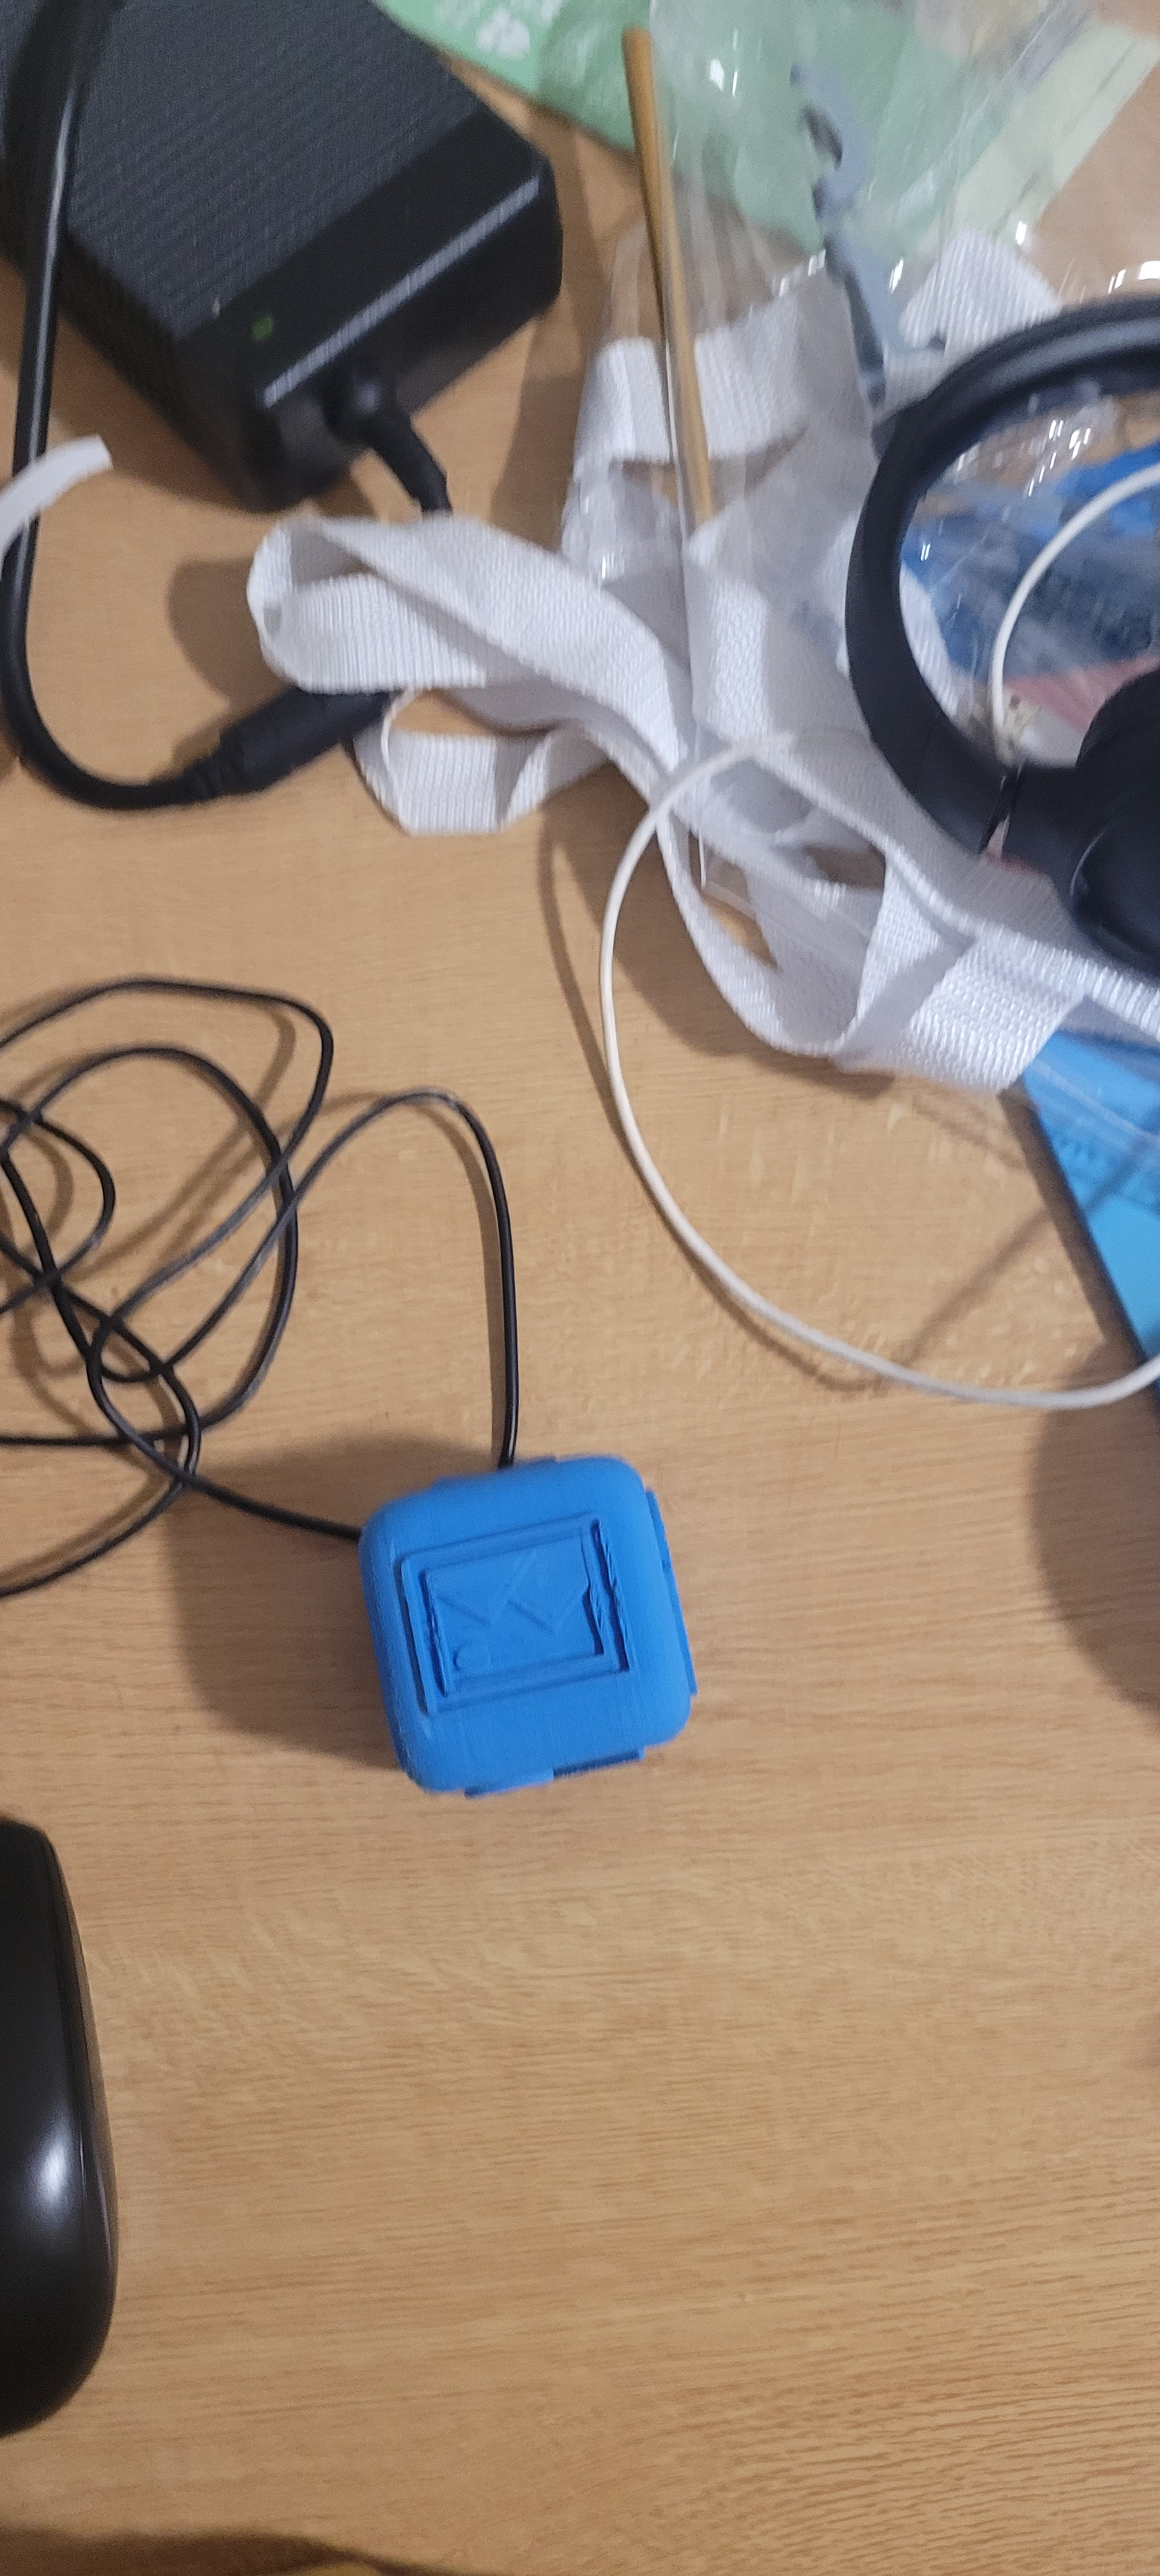Story: (396, 1474, 615, 1758)
